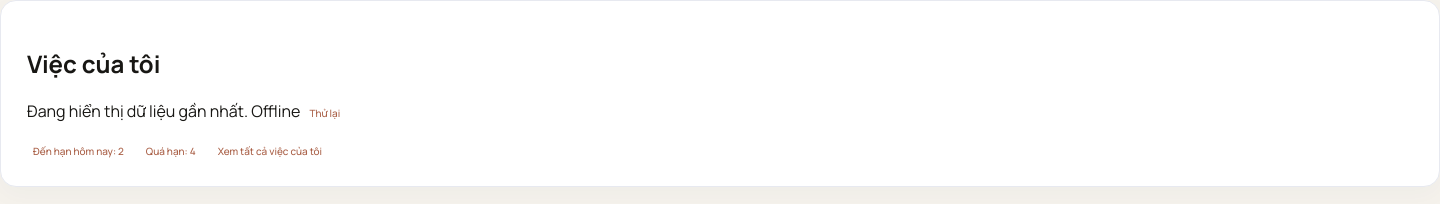
Test: retains summary on network errors and retries without clearing counts
This screenshot has width=1440, height=204.
Check: the message shows "dữ liệu gần nhất", box x1=27 y1=100 x2=251 y2=122
Check: the button "Quá hạn: 4" is shown, box x1=140 y1=143 x2=202 y2=159
Click the button "Thử lại". click: (325, 113)
box: x1=304 y1=105 x2=346 y2=121
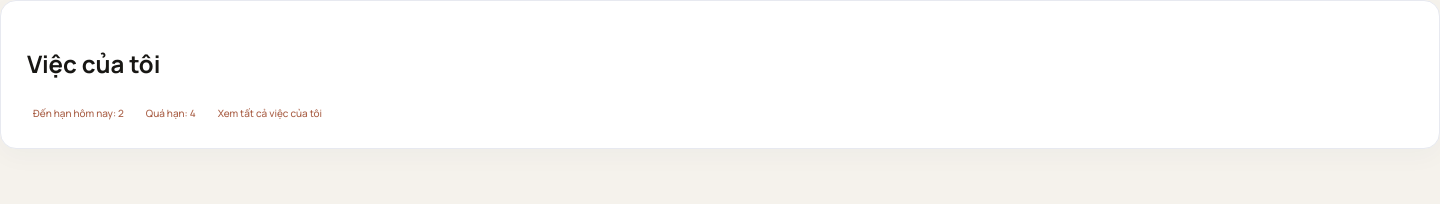
Check: the message "Đang hiển thị dữ liệu gần nhất. Offline Thử lại" is gone
